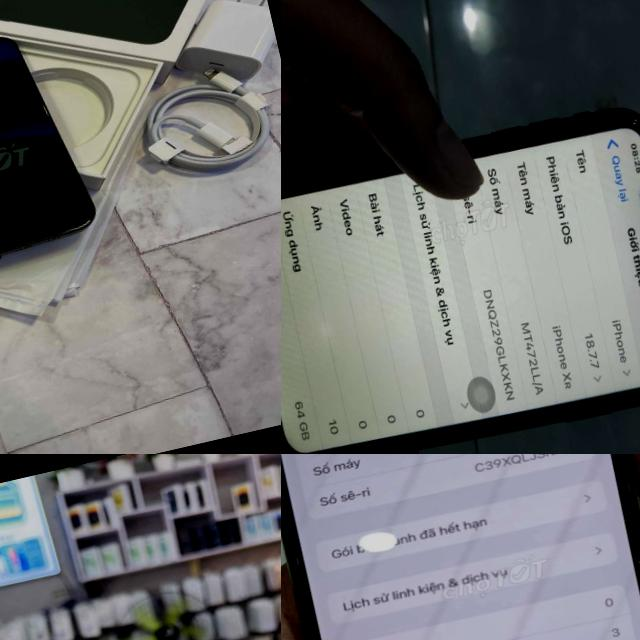gen_12_13: (0, 18, 106, 278)
gen_x_xs: (281, 88, 640, 454), (281, 454, 640, 640)
